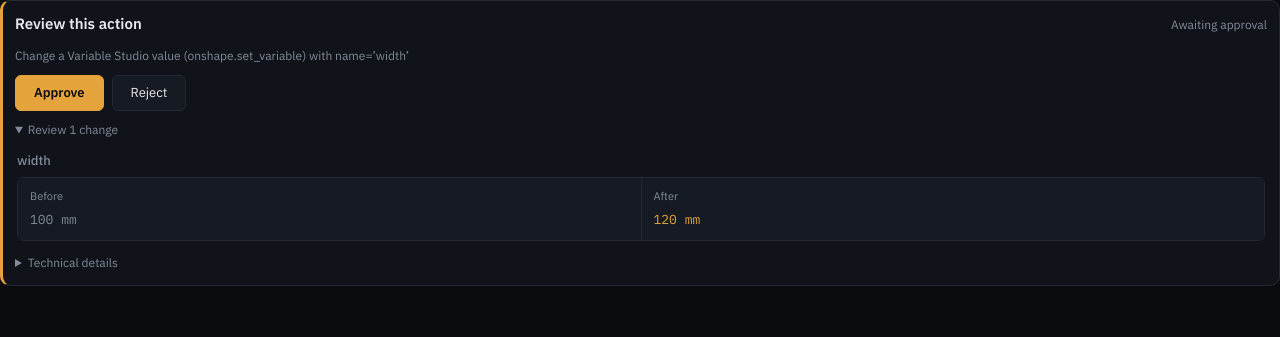
ConfirmationCard › a failed decision does not look like a successful one
This screenshot has width=1280, height=337.
What coordinates should you click on to do the following:
click the button "Approve"
I would click on:
 (59, 93)
Its box is [15,75,104,111].
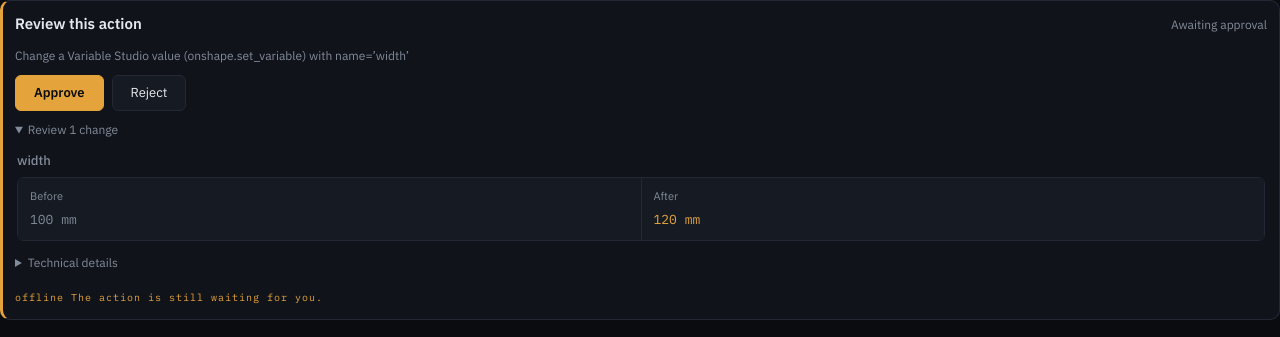
expect the text "offline The action is still waiting for you." is shown: met, box [15,291,323,304]
